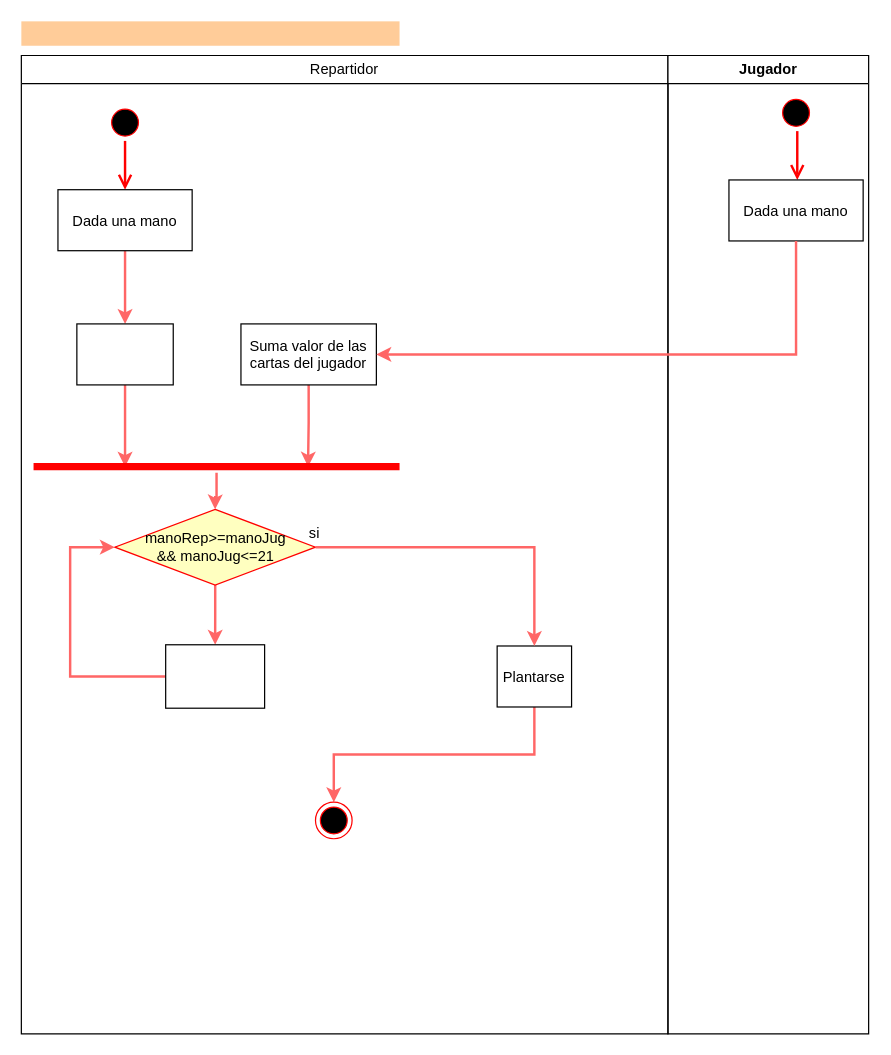
The diagram is 891 pixels wide and 1055 high, and some of its shapes have lost their labels. Here are the shapes that lost their labels. From the top down, the centre of each, then its label:
At (x=210, y=33): "Diagrama de Actividades: Determinar Jugada".
At (x=124, y=354): "Suma valor de sus cartas".
At (x=214, y=676): "Pedir Carta".
